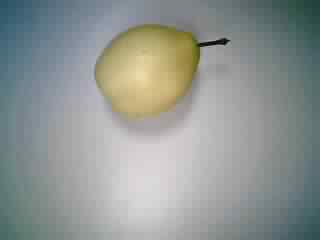pear: (86, 11, 231, 129)
